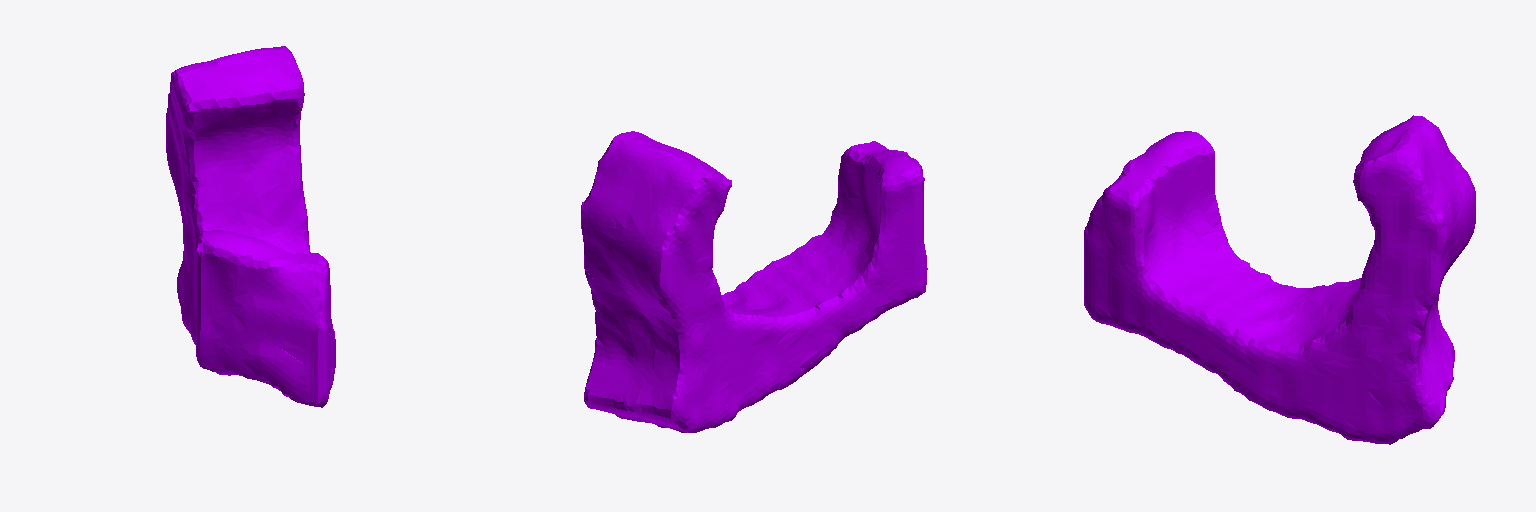
Rendered from Model_147_RH__Visual_area_4__transitional_part_(V4T).obj.
The picture shows the model from 3 angles: view 1: azimuth 30°, elevation 25°; view 2: azimuth 150°, elevation 25°; view 3: azimuth 270°, elevation 25°; orthographic projection.
Size of the model in its own units: 3.48 by 4.42 by 5.46.